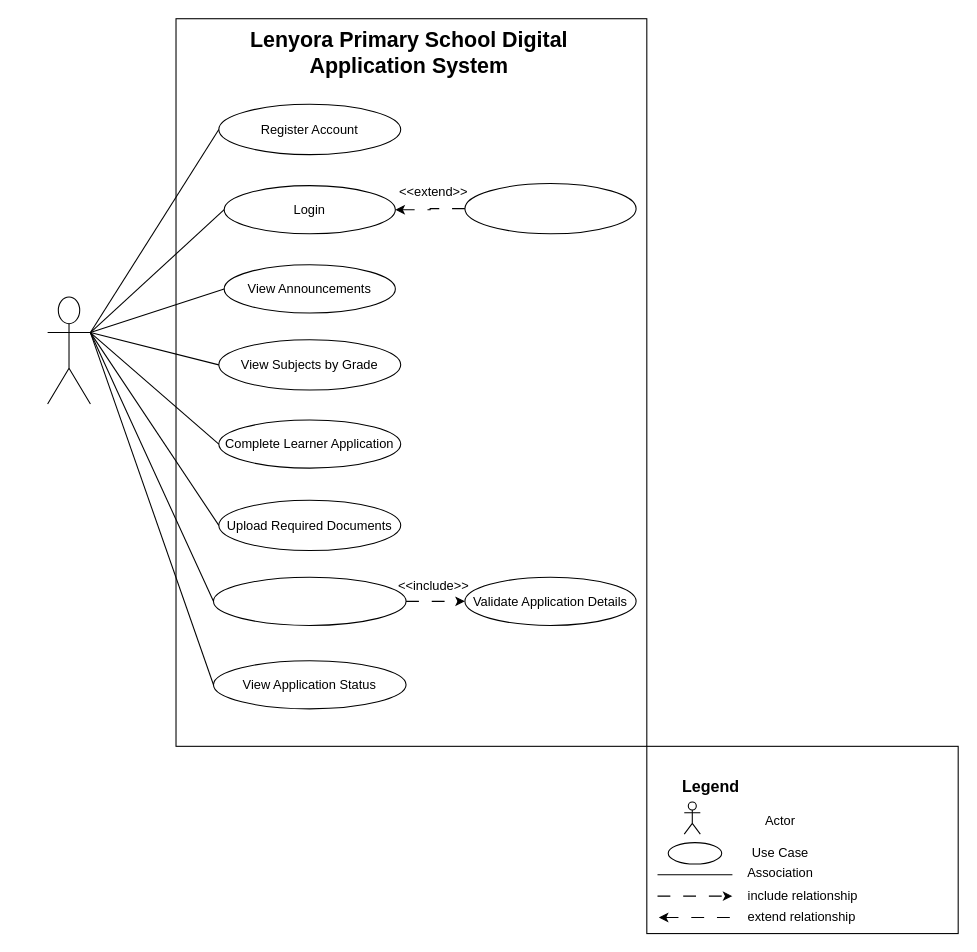
Some shapes in this 977 by 952 pixel diagram are drawn without their labels. Here are the shapes that lost their labels. From the top down, the centre of each, then its label:
At point (550, 208): "Display Login Error".
At point (68, 350): "Parent / Guardian".
At point (309, 600): "Submit Learner Application".
